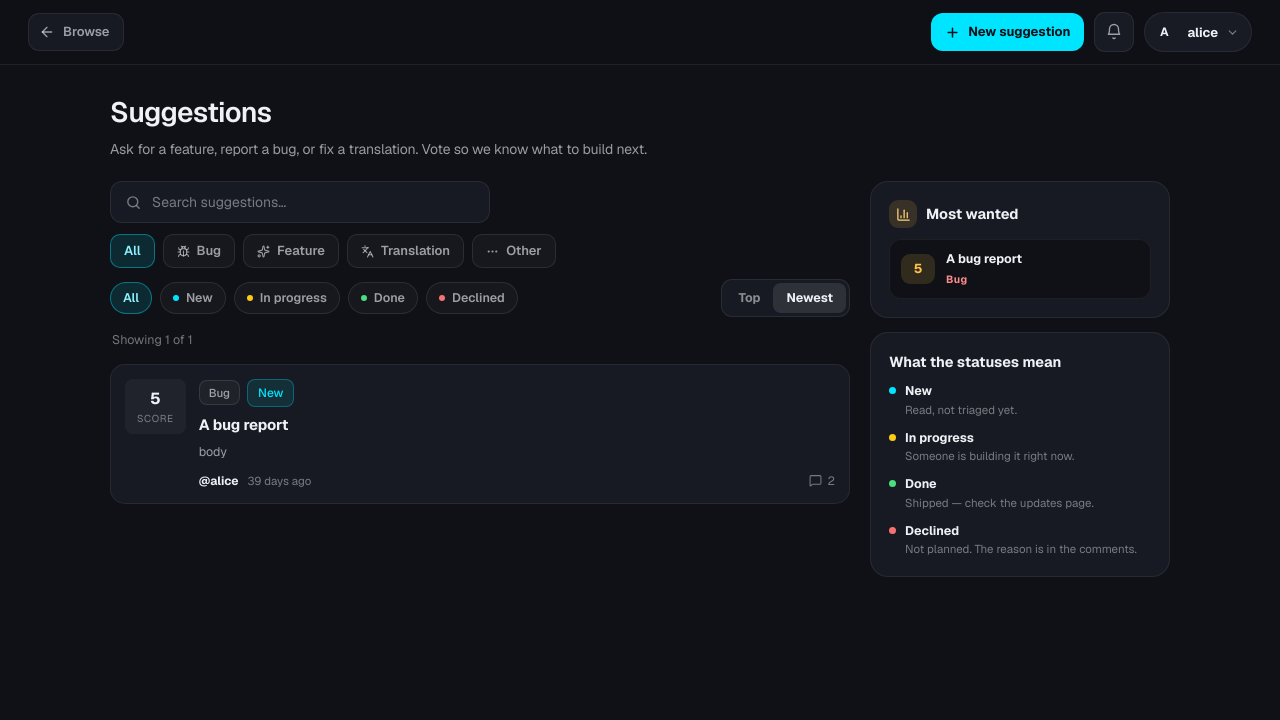
Test case: FeedbackScreen › Clear filters resets the topic, the status and the search box
Step 1. Type "crash" into the search field → (314, 202), box [152, 192, 475, 212]
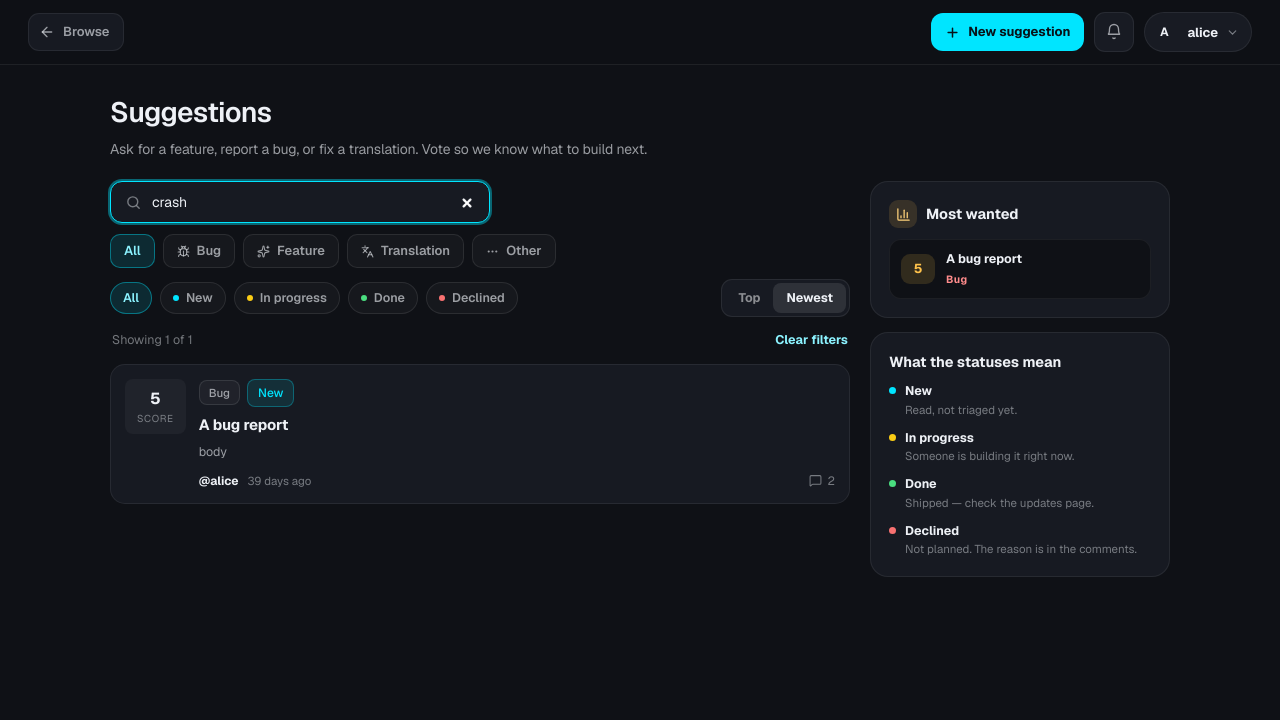
Step 2. Click the button "Feature" → (291, 251), box [243, 234, 339, 268]
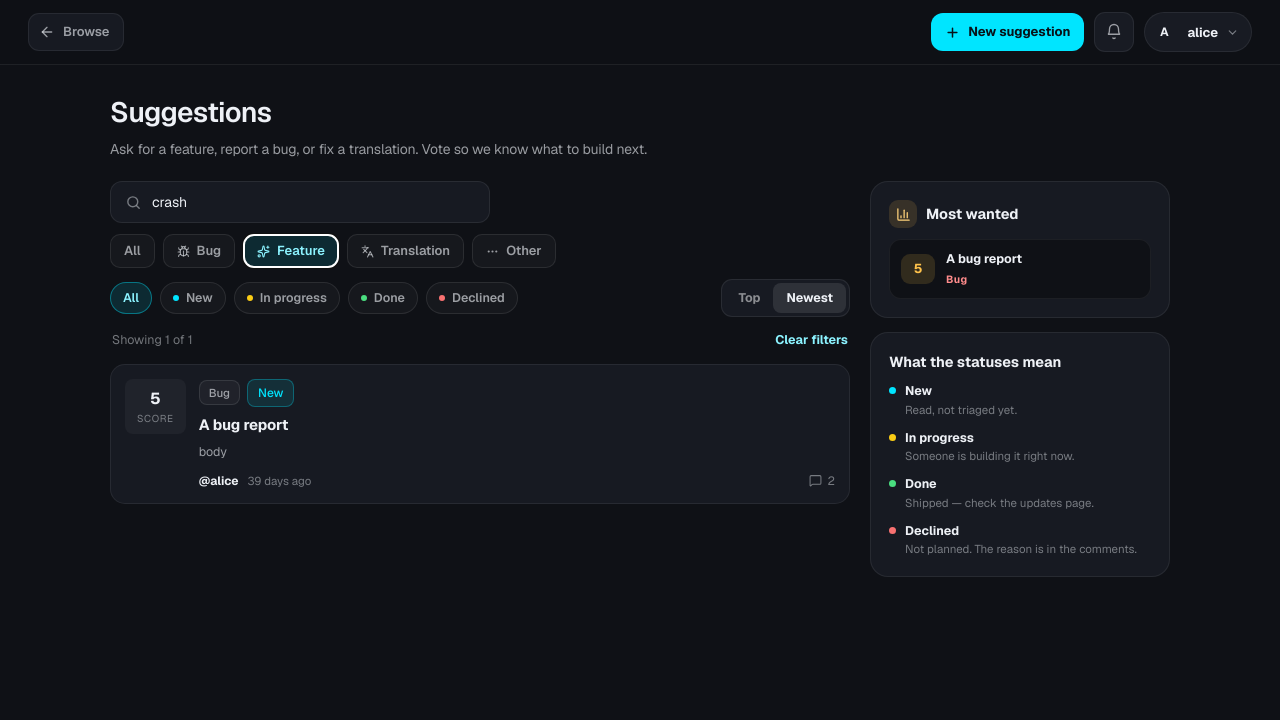
Step 3. Click the button "In progress" → (287, 298), box [234, 282, 340, 314]
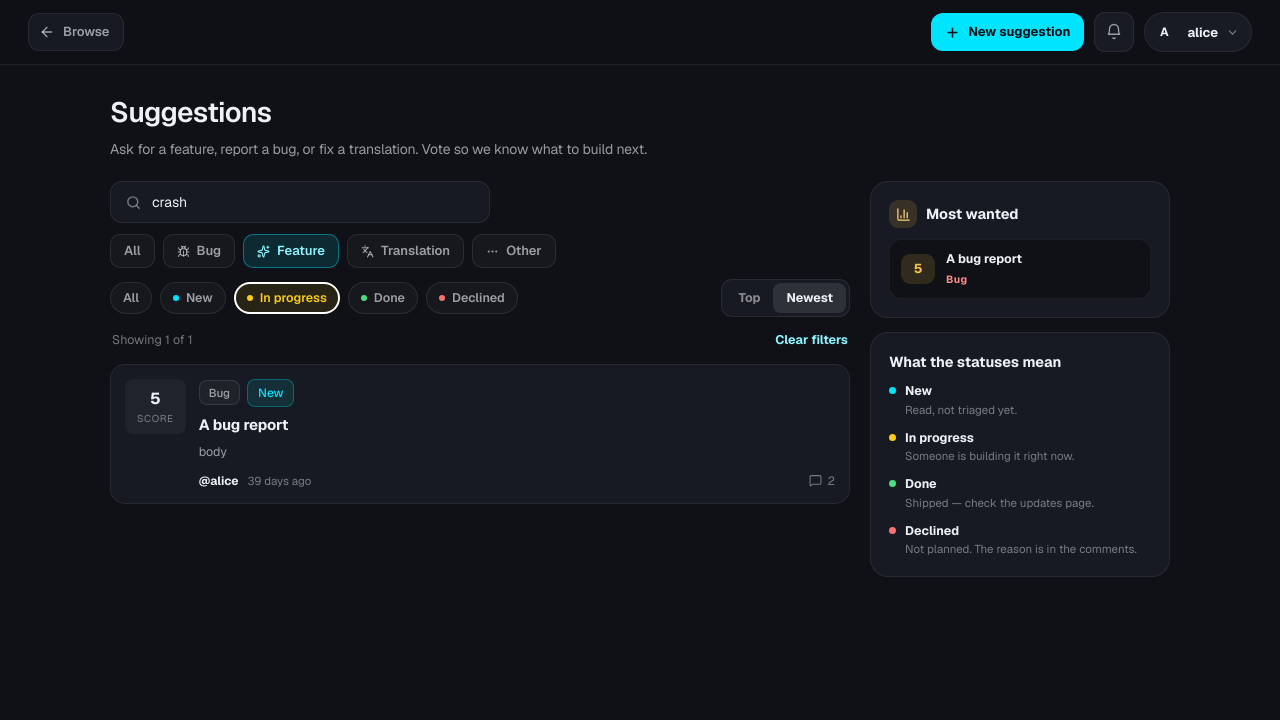
Step 4. Click the button "Clear filters" → (812, 340), box [775, 331, 848, 350]
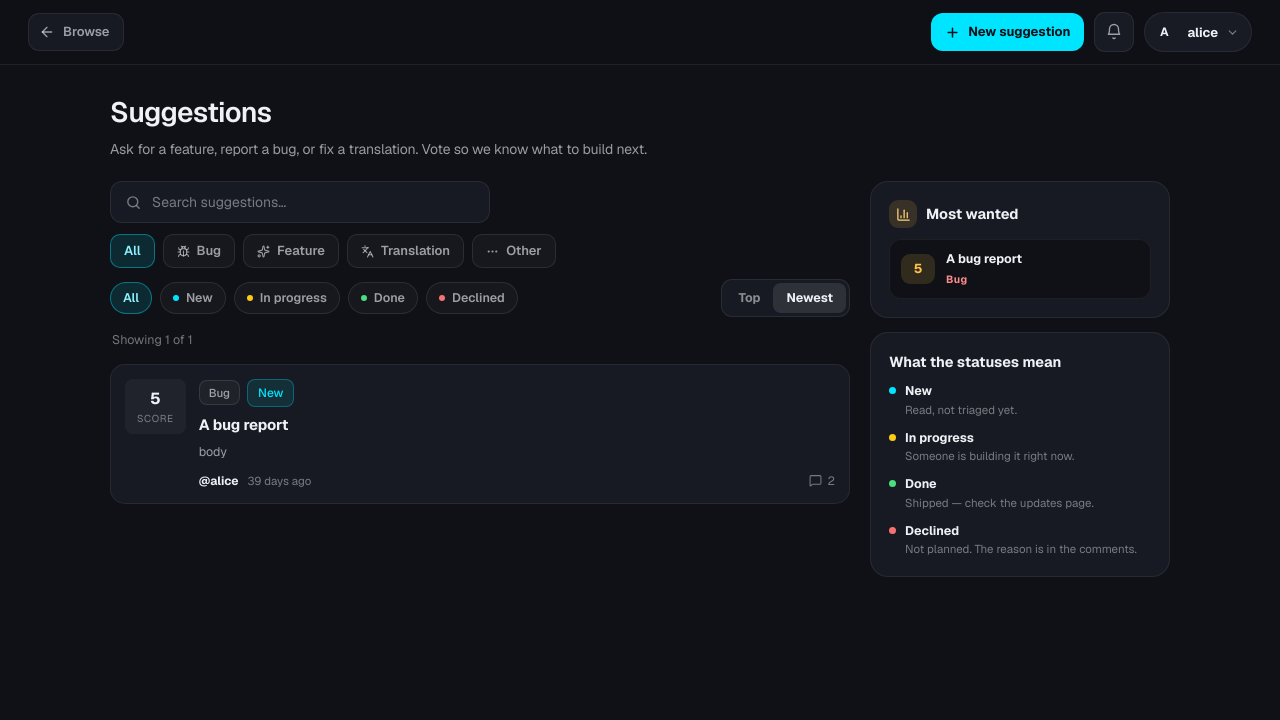
Expected: the search field is empty, [152, 192, 475, 212]
Expected: the button "Clear filters" is gone
